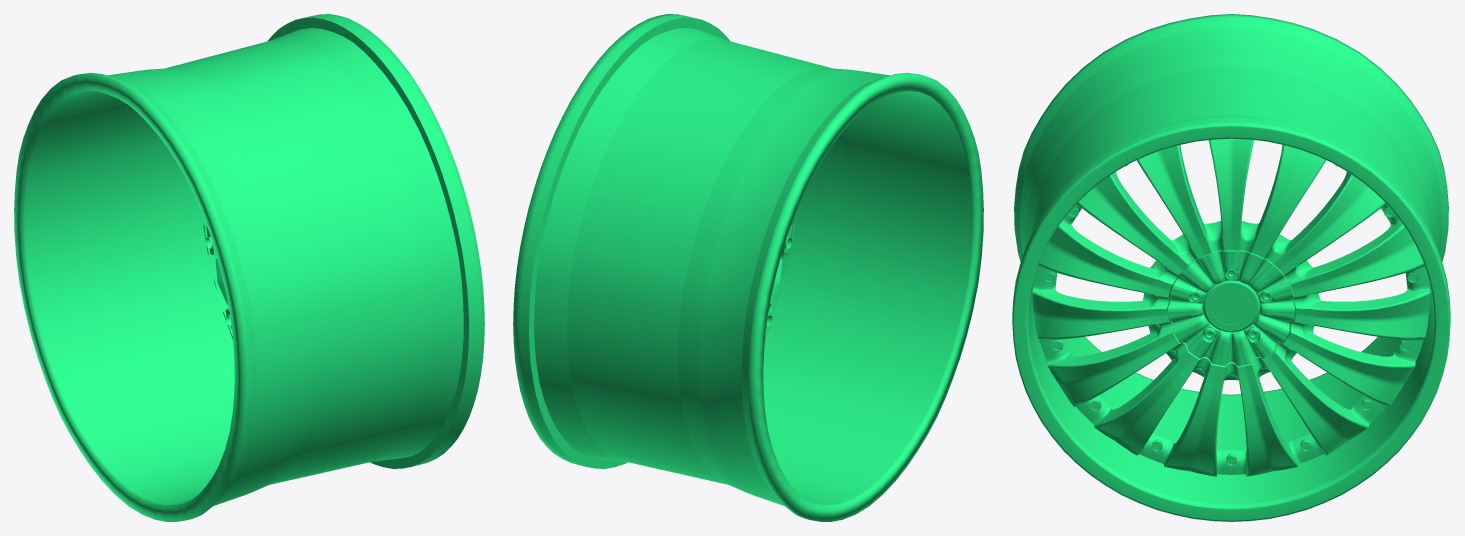
File: tis08.fbx
The picture shows the model from 3 angles, left to right: view 1: azimuth 30°, elevation 25°; view 2: azimuth 150°, elevation 25°; view 3: azimuth 270°, elevation 25°; orthographic projection. The views are drawn at different scales.
Parts seen in each view (by area): view 1: tis08; view 2: tis08; view 3: tis08.
Boxes of the visible parts, bbox=[...] form: tis08: bbox=[14, 14, 484, 521]; tis08: bbox=[513, 14, 983, 521]; tis08: bbox=[1012, 14, 1450, 521].
Bounding box in the file's own units: 1461 × 2427 × 2427.
